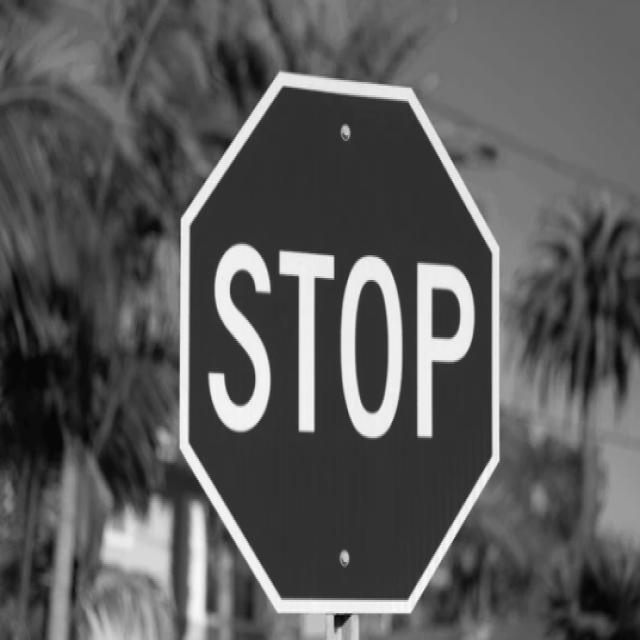Stop-signs: (180, 71, 501, 613)
